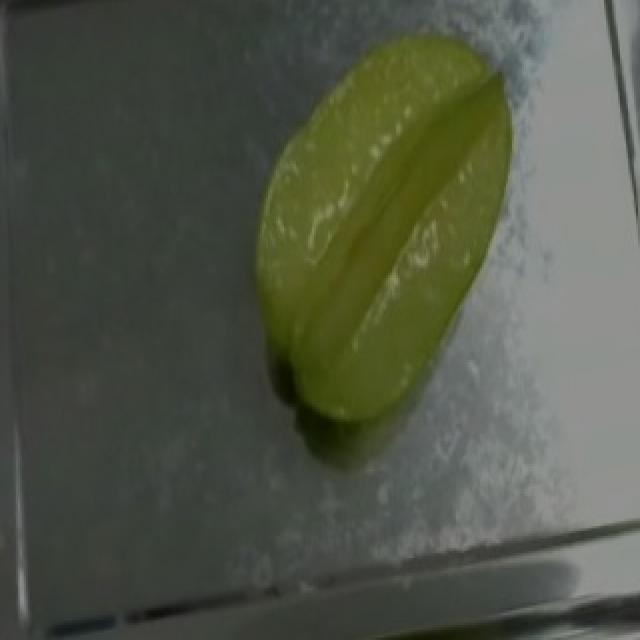fruit: (230, 7, 552, 377)
